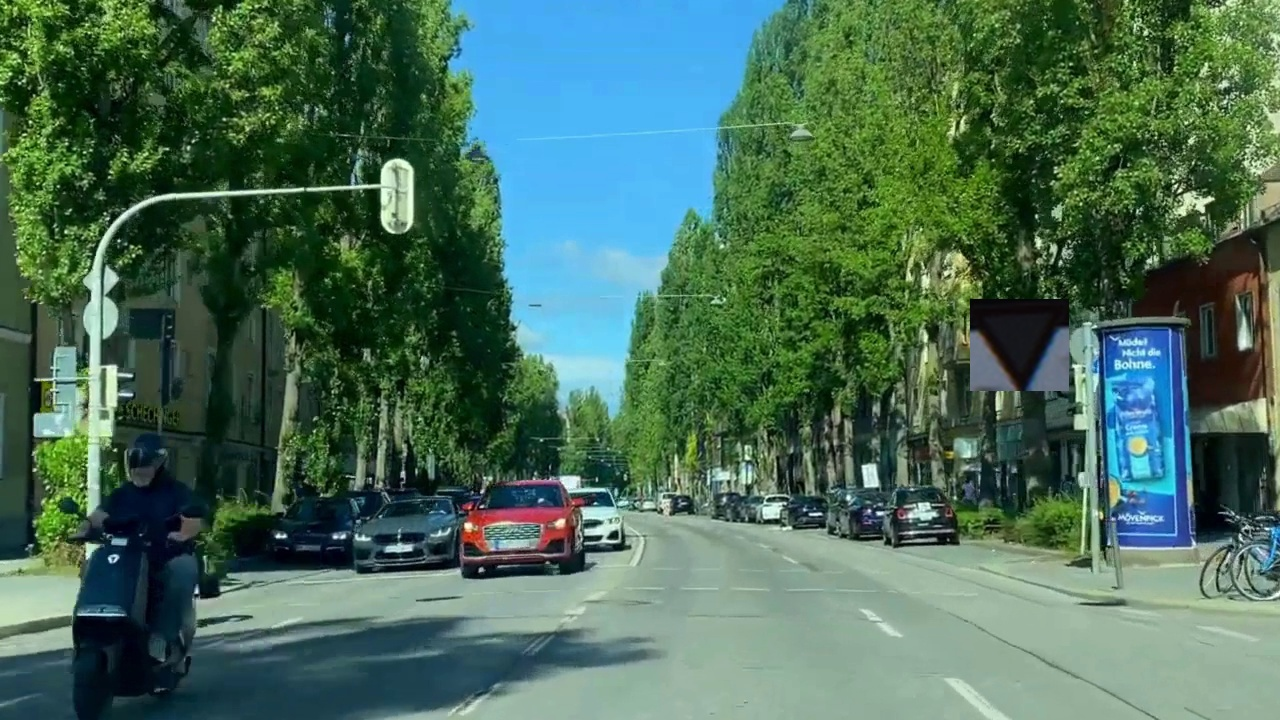Yield: (970, 299, 1069, 391)
